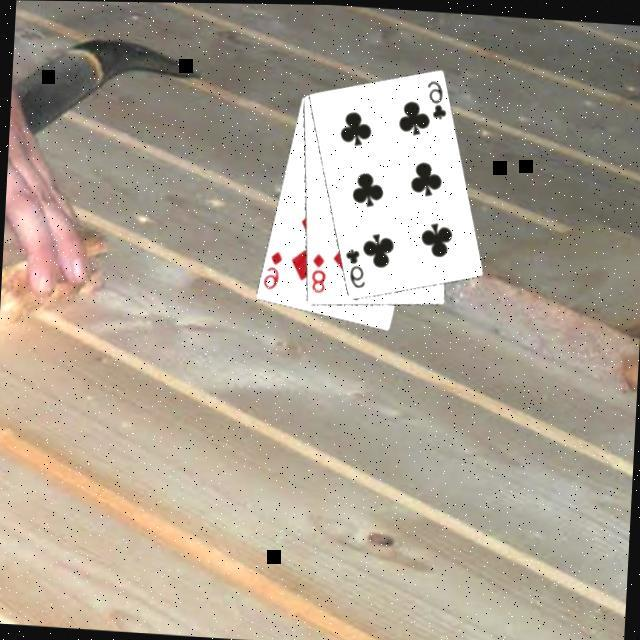6C: (343, 244, 372, 289), (424, 75, 453, 120)
8D: (310, 248, 332, 295)
9D: (262, 246, 288, 291)
